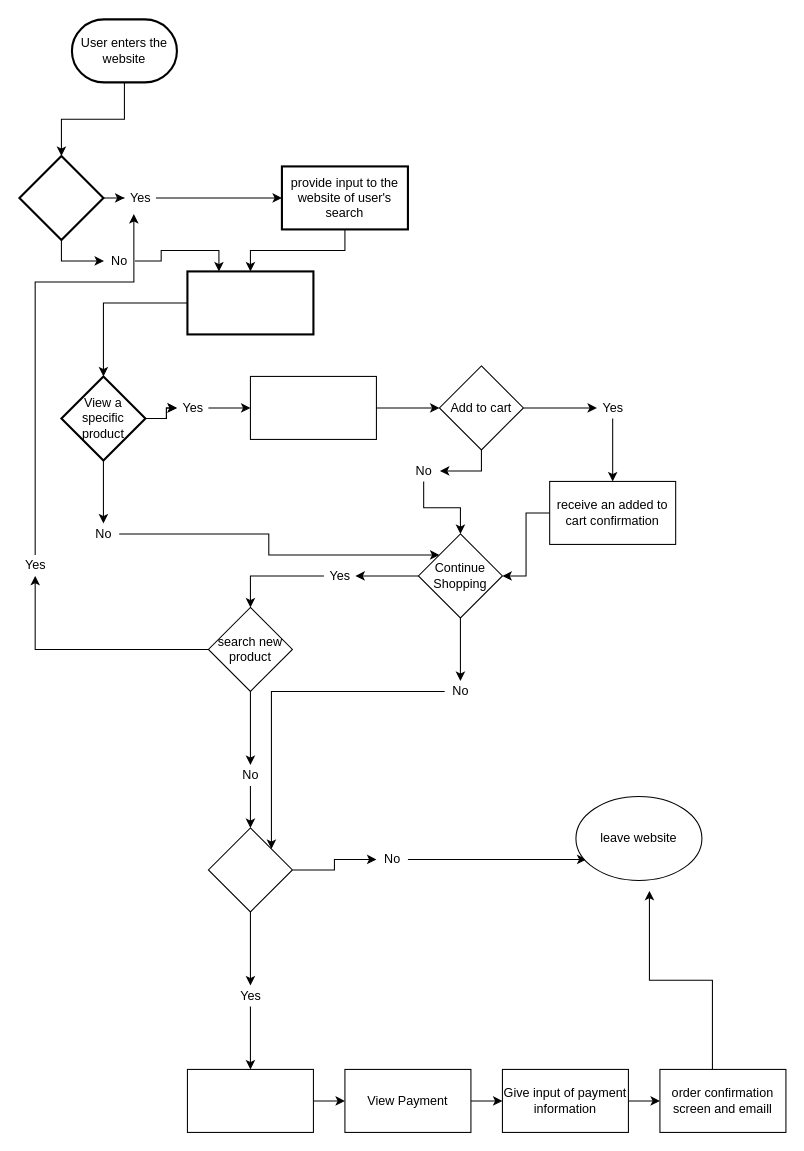
Some shapes in this 804 by 1151 pixel diagram are drawn without their labels. Here are the shapes that lost their labels. From the top down, the centre of each, then its label:
At (61,197): "User Searches Product".
At (250,302): "Look over products".
At (312,407): "product's webpage opens".
At (249,869): "Checkout".
At (249,1100): "View Cart".
